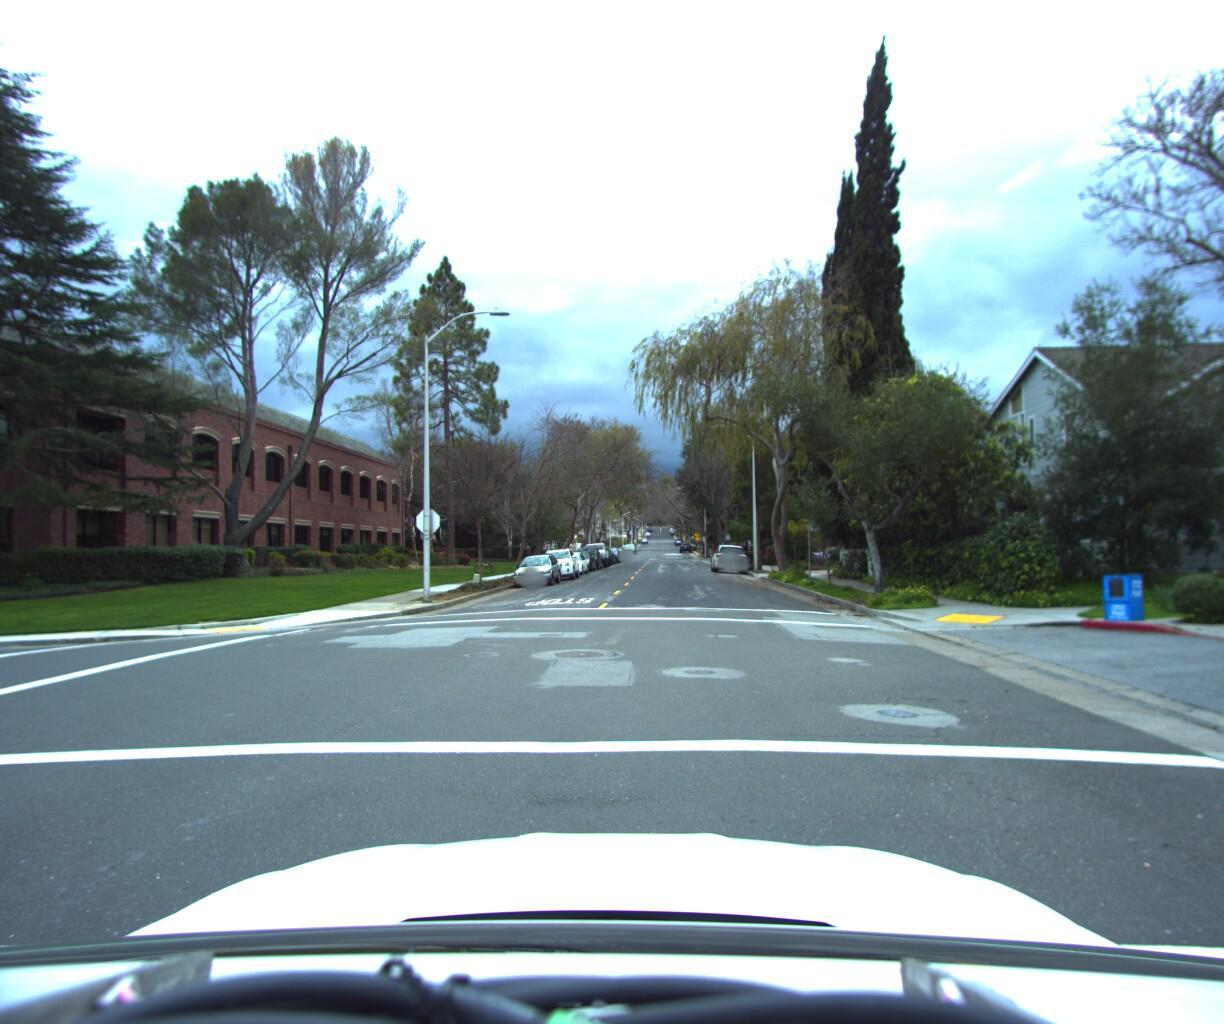car: (512, 551, 563, 588), (536, 544, 583, 579), (710, 539, 750, 573), (552, 549, 592, 576), (579, 540, 613, 567), (564, 549, 601, 571)
